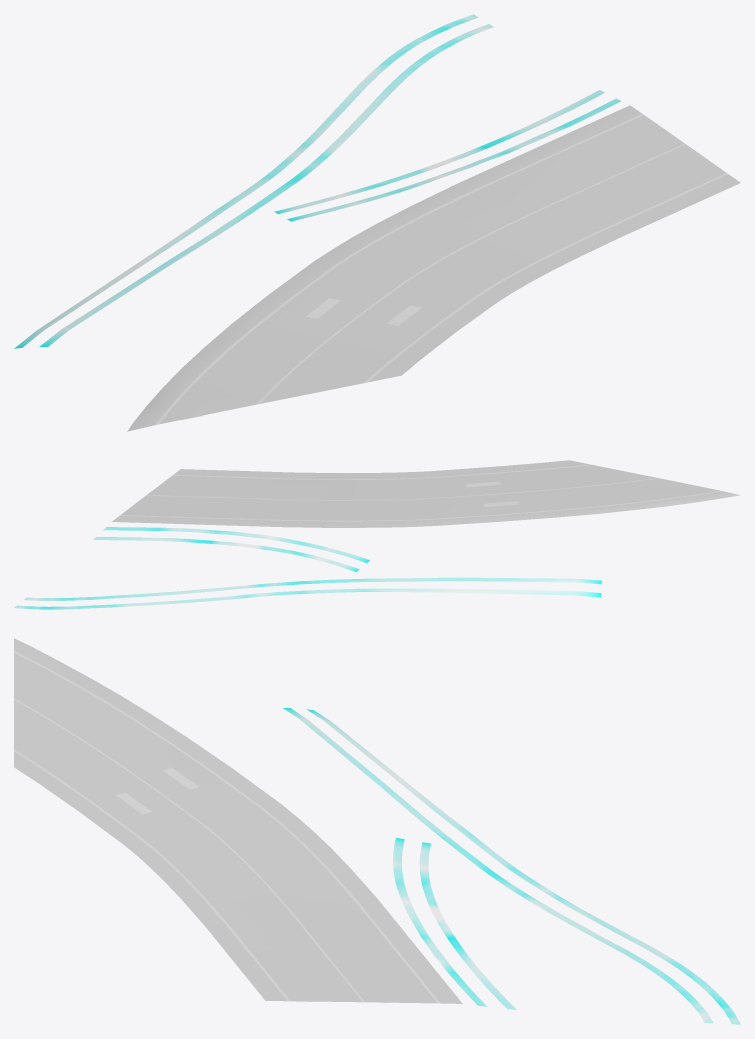
Rendered from cell_175_108.fbx.
3 renders of one model, top to bottom at view 1: azimuth 30°, elevation 25°; view 2: azimuth 150°, elevation 25°; view 3: azimuth 270°, elevation 25°, orthographic. The views are drawn at different scales.
Parts seen in each view (by area): view 1: SpaceCenter_Long3_GenerateRoad_Asphalt_Mesh_x109_y67_17289_H, SpaceCenter_Long3_GenerateRoad_Sand_TireTracks_Narrow_Mesh_x; view 2: SpaceCenter_Long3_GenerateRoad_Asphalt_Mesh_x109_y67_17289_H, SpaceCenter_Long3_GenerateRoad_Sand_TireTracks_Narrow_Mesh_x, SpaceCenter_Long3_GenerateRoad_JTDecal_Asphalt_BM_Line_Mesh.; view 3: SpaceCenter_Long3_GenerateRoad_Asphalt_Mesh_x109_y67_17289_H, SpaceCenter_Long3_GenerateRoad_Sand_TireTracks_Narrow_Mesh_x.
Part boxes in pixels (bbox=[...]): SpaceCenter_Long3_GenerateRoad_Asphalt_Mesh_x109_y67_17289_H: bbox=[127, 105, 740, 431]; SpaceCenter_Long3_GenerateRoad_Sand_TireTracks_Narrow_Mesh_x: bbox=[14, 14, 620, 348]; SpaceCenter_Long3_GenerateRoad_Asphalt_Mesh_x109_y67_17289_H: bbox=[112, 460, 739, 527]; SpaceCenter_Long3_GenerateRoad_Sand_TireTracks_Narrow_Mesh_x: bbox=[14, 527, 601, 609]; SpaceCenter_Long3_GenerateRoad_JTDecal_Asphalt_BM_Line_Mesh.: bbox=[466, 481, 518, 506]; SpaceCenter_Long3_GenerateRoad_Asphalt_Mesh_x109_y67_17289_H: bbox=[14, 638, 462, 1003]; SpaceCenter_Long3_GenerateRoad_Sand_TireTracks_Narrow_Mesh_x: bbox=[283, 708, 740, 1024].
Size of the model in its own units: 52.51 by 4.36 by 49.17.
